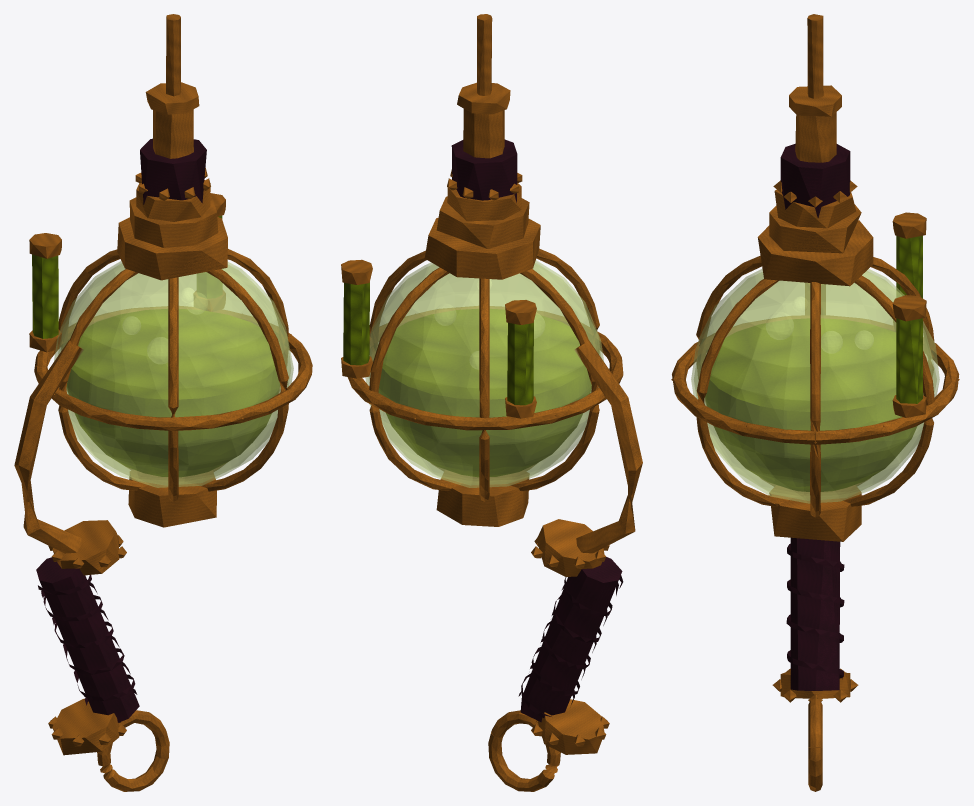
File: alchemical-crossbow_lod1.glb
3 renders of one model, left to right at view 1: azimuth 30°, elevation 25°; view 2: azimuth 150°, elevation 25°; view 3: azimuth 270°, elevation 25°, orthographic. The views are drawn at different scales.
Parts seen in each view (by area): view 1: Thin_glass_reagent_chamber.001, Distinct_green_reagent_liquid.001, Burgundy_grip.001, Equatorial_frame.001, Pressure_return_tube.001, Pressure_barrel.008, Pressure_barrel.007, Dark_barrel_collar.001, Gold_chamber_rib_5.001, Pressure_barrel.009, Gold_chamber_rib_3.001, Engraved_gold_ferrule.002 (+13 smaller); view 2: Thin_glass_reagent_chamber.001, Distinct_green_reagent_liquid.001, Burgundy_grip.001, Equatorial_frame.001, Pressure_return_tube.001, Pressure_barrel.008, Pressure_barrel.007, Gold_chamber_rib_1.001, Dark_barrel_collar.001, Pressure_barrel.009, Gold_chamber_rib_3.001, Engraved_gold_ferrule.002 (+14 smaller); view 3: Thin_glass_reagent_chamber.001, Distinct_green_reagent_liquid.001, Burgundy_grip.001, Equatorial_frame.001, Pressure_barrel.008, Pressure_barrel.007, Dark_barrel_collar.001, Gold_chamber_rib_5.001, Pressure_barrel.009, Gold_chamber_rib_0.001, Gold_chamber_rib_1.001, Side_ampoule.003 (+14 smaller).
Part boxes in pixels (x1,y1,x2,y2): Thin_glass_reagent_chamber.001: (54, 261, 293, 487); Distinct_green_reagent_liquid.001: (67, 309, 279, 477); Burgundy_grip.001: (36, 557, 139, 722); Equatorial_frame.001: (34, 306, 312, 430); Pressure_return_tube.001: (14, 340, 83, 553); Pressure_barrel.008: (117, 217, 227, 280); Pressure_barrel.007: (128, 470, 216, 527); Dark_barrel_collar.001: (140, 138, 206, 204); Gold_chamber_rib_5.001: (196, 269, 288, 491); Pressure_barrel.009: (129, 196, 218, 247); Gold_chamber_rib_3.001: (58, 269, 151, 490); Engraved_gold_ferrule.002: (52, 698, 119, 755); Thin_glass_reagent_chamber.001: (365, 260, 603, 487); Distinct_green_reagent_liquid.001: (378, 308, 591, 477); Burgundy_grip.001: (520, 557, 622, 722); Equatorial_frame.001: (347, 306, 623, 430); Pressure_return_tube.001: (574, 341, 642, 553); Pressure_barrel.008: (424, 217, 540, 279); Pressure_barrel.007: (436, 470, 529, 526); Gold_chamber_rib_1.001: (369, 267, 461, 490); Dark_barrel_collar.001: (451, 139, 517, 202); Pressure_barrel.009: (436, 196, 529, 248); Gold_chamber_rib_3.001: (506, 269, 599, 491); Engraved_gold_ferrule.002: (537, 699, 604, 754); Thin_glass_reagent_chamber.001: (691, 269, 939, 503); Distinct_green_reagent_liquid.001: (705, 318, 923, 491); Burgundy_grip.001: (790, 537, 840, 690); Equatorial_frame.001: (672, 315, 959, 444); Pressure_barrel.008: (757, 220, 873, 286); Pressure_barrel.007: (769, 485, 861, 541); Dark_barrel_collar.001: (780, 143, 850, 217); Gold_chamber_rib_5.001: (696, 279, 791, 506); Pressure_barrel.009: (769, 204, 861, 253); Gold_chamber_rib_0.001: (810, 282, 820, 517); Gold_chamber_rib_1.001: (839, 275, 934, 506); Side_ampoule.003: (896, 318, 922, 403).
Bounding box in the file's own units: 0.3722 × 0.9809 × 0.3249.
Materials: 4 (3 with a texture image).
